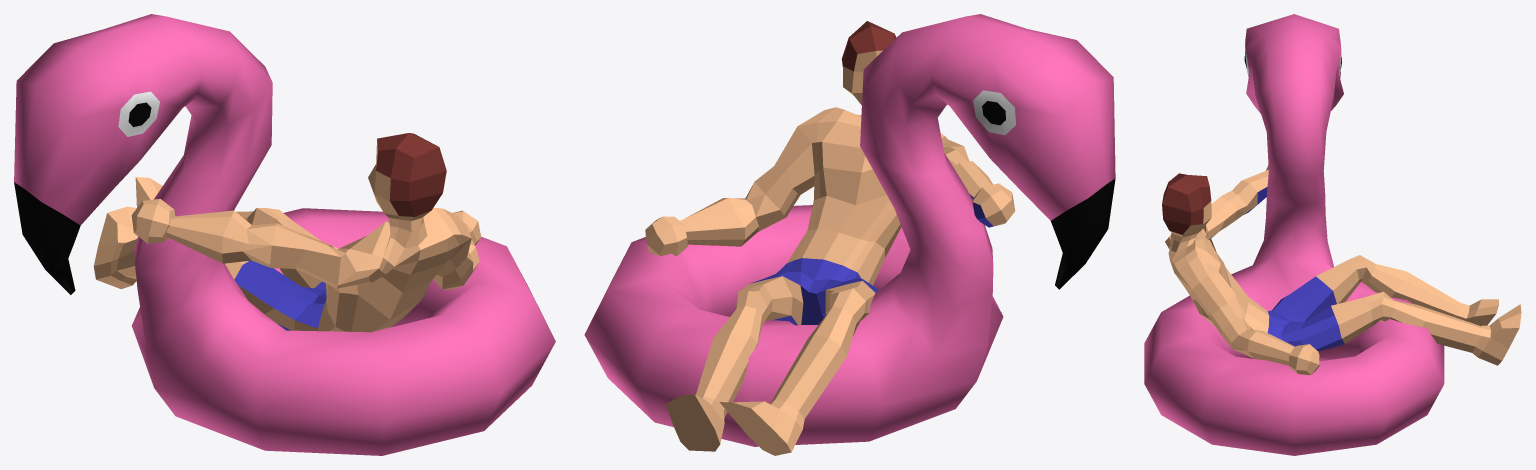
File: flamenco.fbx
3 views of the same model, side by side, from view 1: azimuth 30°, elevation 25°; view 2: azimuth 150°, elevation 25°; view 3: azimuth 270°, elevation 25° (orthographic). The views are drawn at different scales.
Visible parts, largest first — view 1: Character2.002; view 2: Character2.002; view 3: Character2.002.
Part boxes in pixels (<box>): Character2.002: <box>14,14,555,455</box>; Character2.002: <box>584,14,1115,455</box>; Character2.002: <box>1144,14,1521,455</box>.
Bounding box in the file's own units: 4.5 × 3.52 × 3.95.
